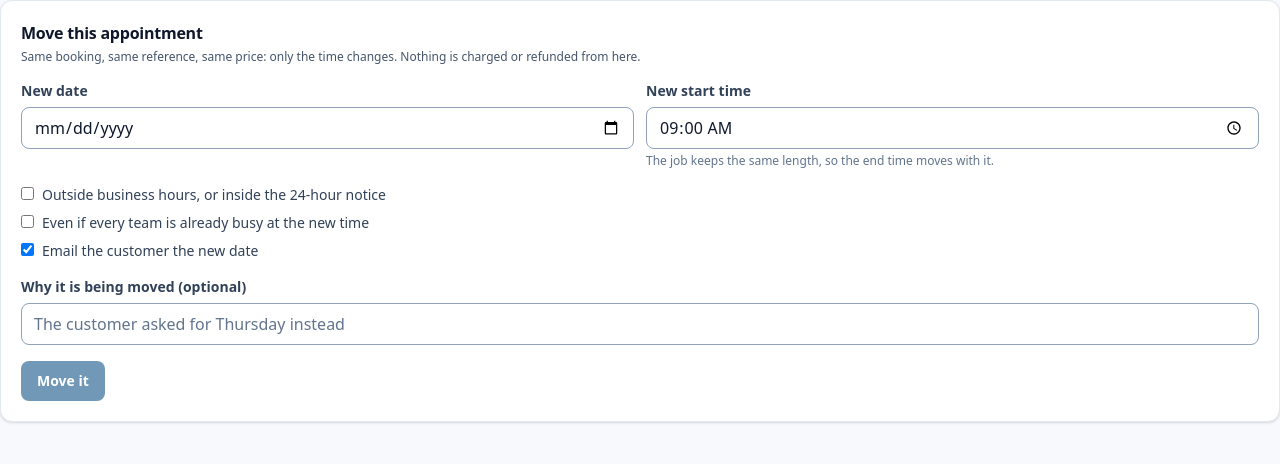
avisar al cliente › viene marcado, y al desmarcarlo avisa de lo que eso significa
Expected: the text "tell them yourself" is not shown
Step 1. Click the checkbox labelled "Email the customer the new date" → (28, 250), box [21,243,34,256]
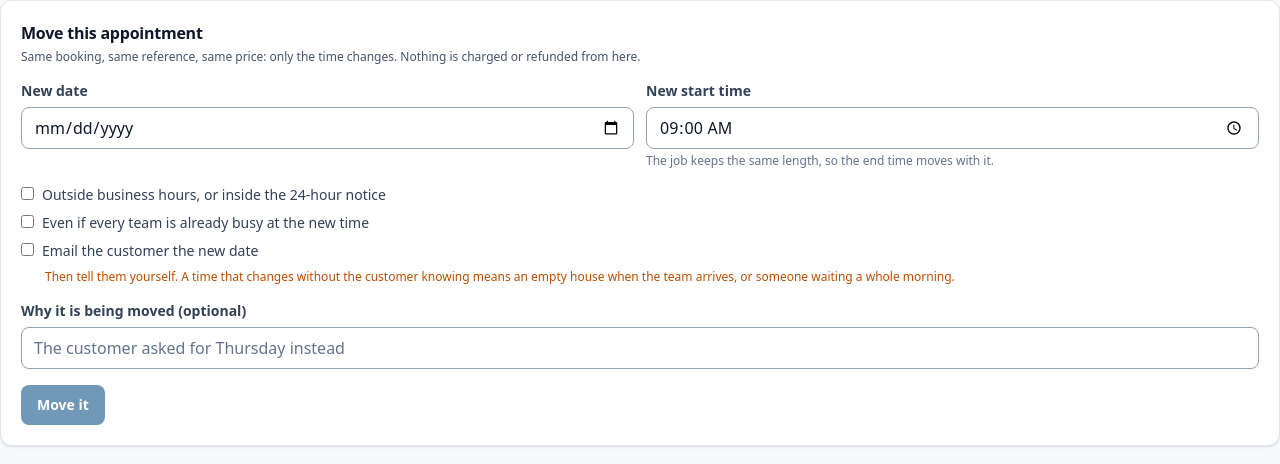
Expected: the text "tell them yourself" is shown, [45,268,955,285]
